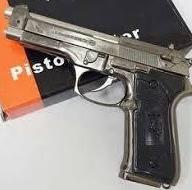gun: (1, 1, 192, 190)
